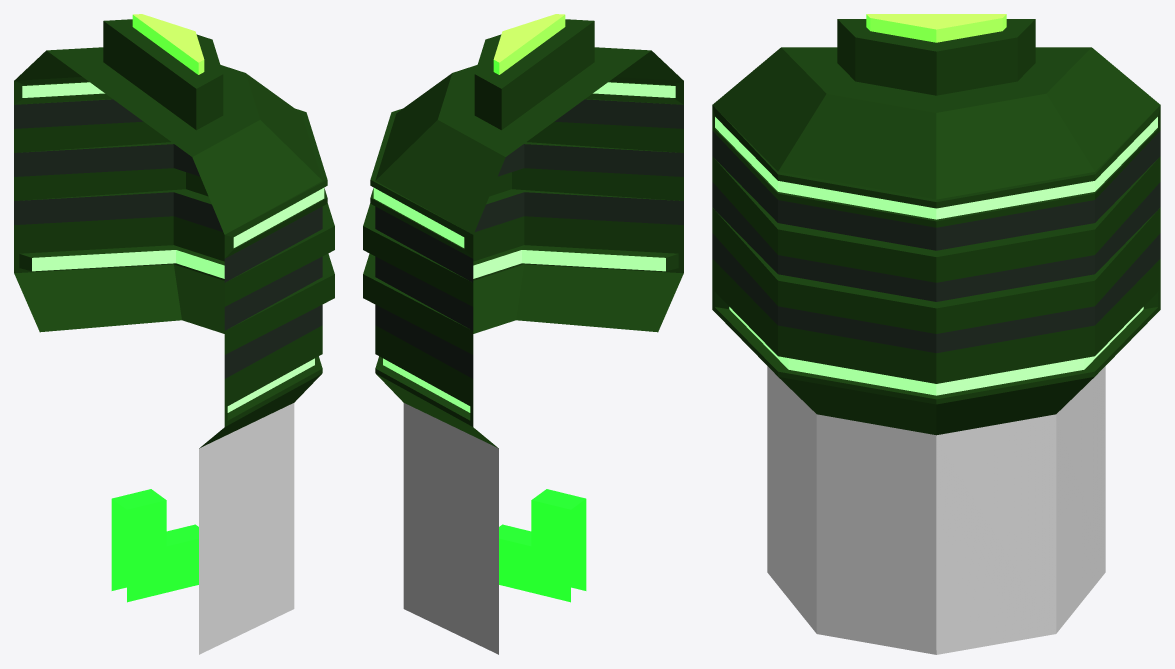
File: health_pickup.glb
The picture shows the model from 3 angles, left to right: view 1: azimuth 30°, elevation 25°; view 2: azimuth 150°, elevation 25°; view 3: azimuth 270°, elevation 25°; orthographic projection. The views are drawn at different scales.
Parts seen in each view (by area): view 1: base capsule.001, health_pickup.001, base capsule; view 2: base capsule.001, health_pickup.001, base capsule; view 3: base capsule.001.
Boxes of the visible parts, box(x1,y1,x2,y2) form: base capsule.001: box(14, 14, 334, 654); health_pickup.001: box(111, 489, 198, 602); base capsule: box(112, 525, 189, 590); base capsule.001: box(363, 14, 683, 654); health_pickup.001: box(499, 489, 586, 602); base capsule: box(499, 499, 585, 592); base capsule.001: box(712, 14, 1160, 654).
Bounding box in the file's own units: 0.2143 × 0.5756 × 0.4016.
